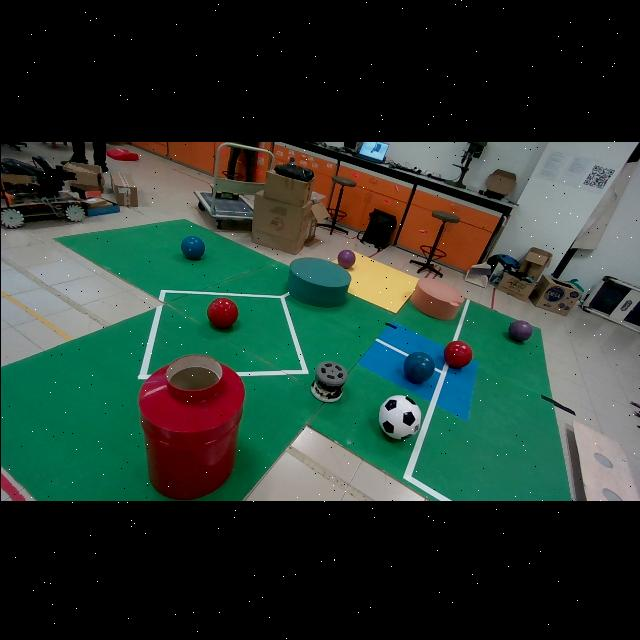B: (403, 350, 434, 383), (180, 234, 204, 258)
P: (508, 319, 532, 340), (337, 248, 355, 267)
R: (207, 296, 237, 328), (443, 339, 472, 367)
